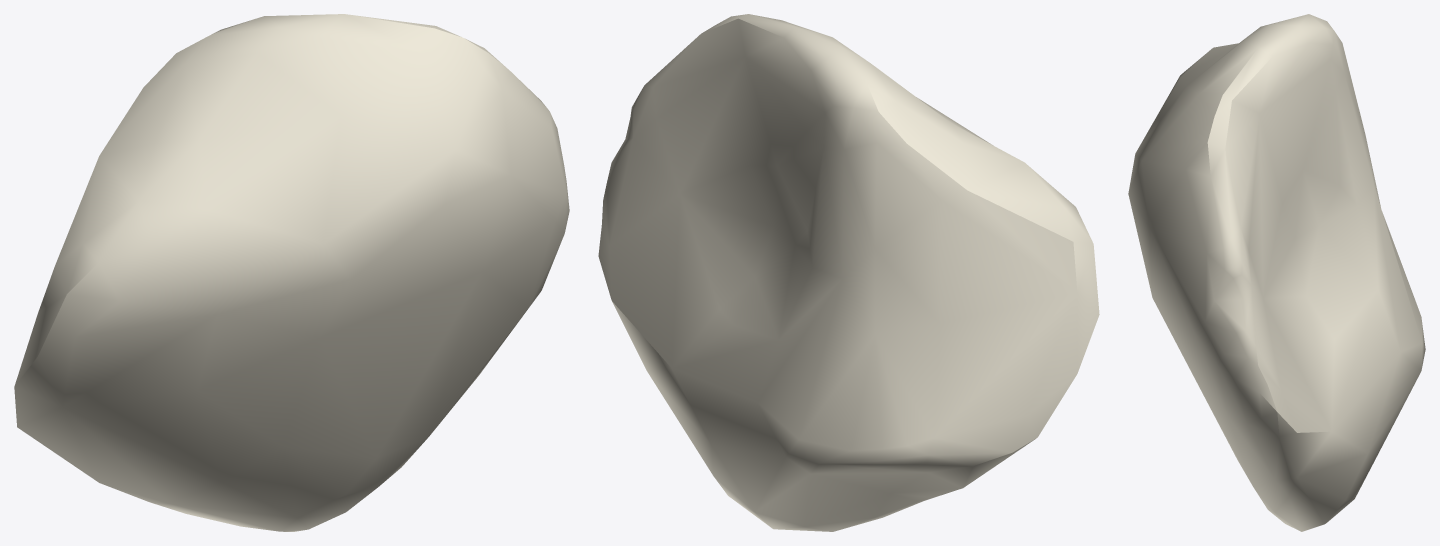
File: fma24487_fj3275.glb
The picture shows the model from 3 angles, left to right: view 1: azimuth 30°, elevation 25°; view 2: azimuth 150°, elevation 25°; view 3: azimuth 270°, elevation 25°; orthographic projection. The views are drawn at different scales.
Visible parts, largest first — view 1: FMA24487_FJ3275; view 2: FMA24487_FJ3275; view 3: FMA24487_FJ3275.
Boxes of the visible parts, x1,y1,x2,y2 form: FMA24487_FJ3275: [14, 14, 569, 531]; FMA24487_FJ3275: [598, 14, 1099, 531]; FMA24487_FJ3275: [1128, 14, 1425, 531].
Size of the model in its own units: 0.0416 by 0.0393 by 0.0219.
